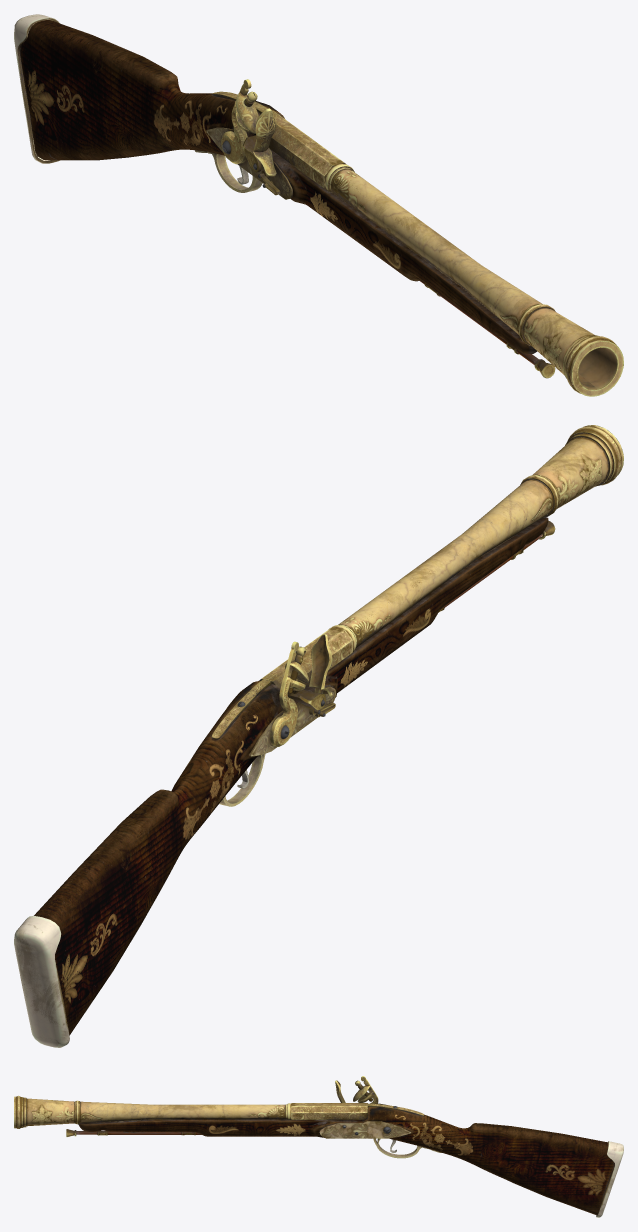
The model's file is Blunderbuss Shotgun.glb.
3 views of the same model, one above another, from view 1: azimuth 30°, elevation 25°; view 2: azimuth 150°, elevation 25°; view 3: azimuth 270°, elevation 25° (orthographic). The views are drawn at different scales.
Parts seen in each view (by area): view 1: body_low, barrel_low, p_low, p2_low, rod_low; view 2: body_low, barrel_low, p_low, p2_low; view 3: body_low, barrel_low, p_low, rod_low, p2_low.
Part boxes in pixels (<box>): body_low: <box>19,20,537,353</box>; barrel_low: <box>254,110,623,396</box>; p_low: <box>14,14,292,199</box>; p2_low: <box>222,91,280,195</box>; rod_low: <box>419,280,555,378</box>; body_low: <box>34,516,548,1035</box>; barrel_low: <box>259,425,623,697</box>; p_low: <box>14,641,335,1047</box>; p2_low: <box>237,634,335,788</box>; body_low: <box>78,1103,614,1215</box>; barrel_low: <box>14,1095,367,1128</box>; p_low: <box>319,1076,623,1217</box>; rod_low: <box>66,1129,201,1136</box>; p2_low: <box>335,1080,397,1152</box>.
Bounding box in the file's own units: 0.1333 × 0.4829 × 2.01.
Materials: 1 (1 with a texture image).
